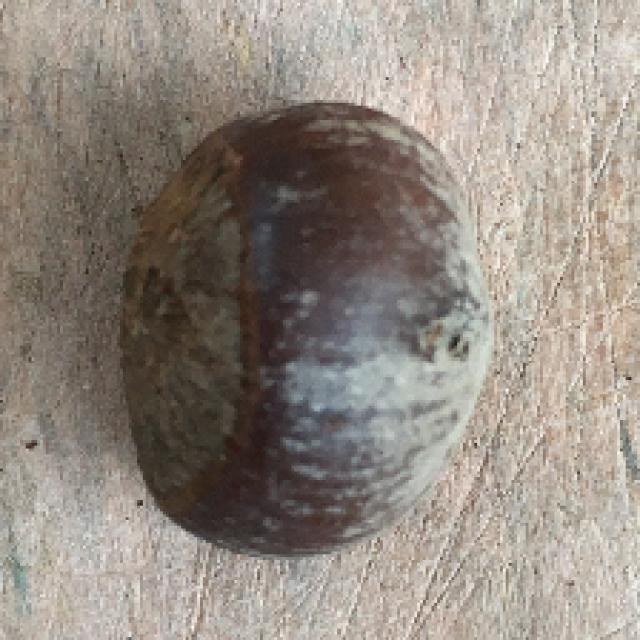damagedHazelnut: (119, 92, 493, 570)
